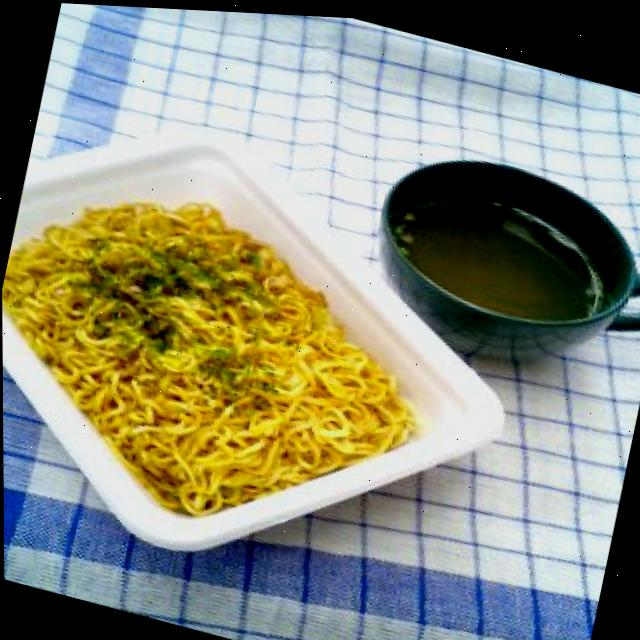面条主食: (1, 136, 452, 579)
